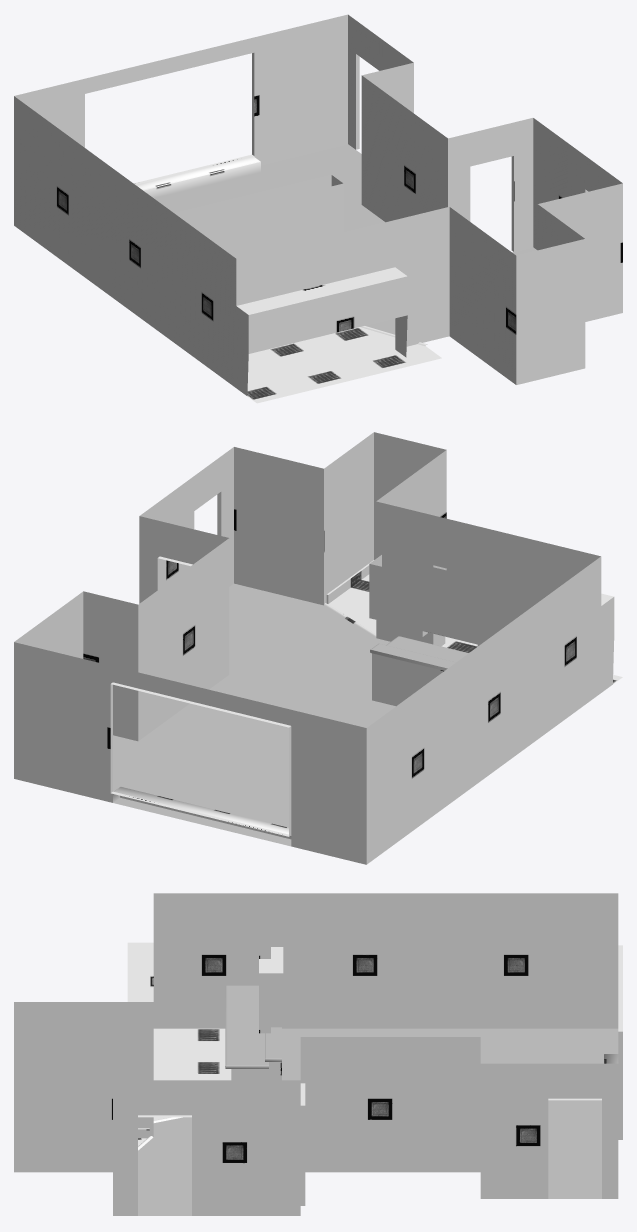
Rendered from apartment.fbx.
3 renders of one model, top to bottom at view 1: azimuth 30°, elevation 25°; view 2: azimuth 150°, elevation 25°; view 3: azimuth 270°, elevation 25°, orthographic. The views are drawn at different scales.
Parts seen in each view (by area): view 1: Plane004, Box002, Object, Plane003, Object001; view 2: Plane004, Plane003, Box002, Box001, Object001, Object; view 3: Plane004, Plane003, Box001, Object, Box002.
Part boxes in pixels (box(x1,y1,x2,y2)): Plane004: box(14, 14, 622, 395); Box002: box(174, 175, 343, 258); Object: box(247, 327, 441, 403); Plane003: box(154, 144, 537, 334); Object001: box(136, 156, 260, 197); Plane004: box(14, 432, 614, 864); Plane003: box(113, 583, 395, 846); Box002: box(369, 555, 547, 646); Box001: box(370, 636, 468, 706); Object001: box(113, 787, 291, 839); Object: box(328, 574, 622, 683); Plane004: box(14, 893, 622, 1215); Plane003: box(138, 1028, 618, 1215); Box001: box(225, 985, 281, 1080); Object: box(138, 1028, 231, 1145); Box002: box(259, 947, 283, 1033).
Bounding box in the file's own units: 1014 × 339 × 1380.
